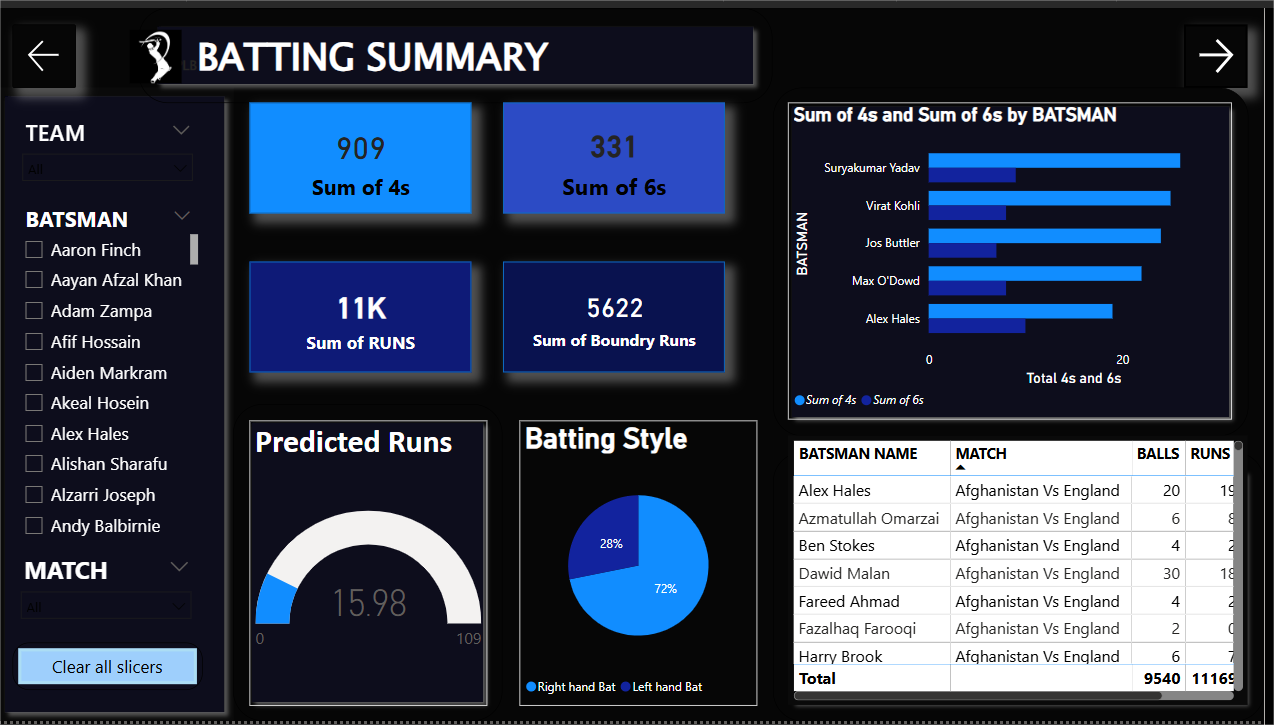

Layout of this report page (visuals, bound fields, positions):
{"tool":"powerbi","page":{"name":"BATTING DATA","canvas":[1280,720],"ordinal":1},"visuals":[{"type":"shape","box":[0,80,240,640],"z":0},{"type":"shape","box":[144,0,640,96],"z":1000},{"type":"actionButton","box":[16,16,64,64],"z":2000},{"type":"textbox","box":[176,16,592,80],"z":3000},{"type":"shape","box":[256,96,224,112],"z":4000},{"type":"shape","box":[512,96,224,112],"z":5000},{"type":"actionButton","box":[1200,16,64,64],"z":6000},{"type":"shape","box":[784,80,480,352],"z":7000},{"type":"shape","box":[240,400,272,320],"z":8000},{"type":"shape","box":[784,448,496,272],"z":9000},{"type":"actionButton","box":[16,640,192,48],"z":10000},{"type":"slicer","fields":{"Values":["bating_summary.BATSMAN NAME"]},"box":[16,192,192,352],"z":11000},{"type":"card","title":"Total 4s","fields":{"Values":["bating_summary.4s"]},"box":[255.8,96.5,224.4,111.6],"z":12000},{"type":"card","title":"Total 6s","fields":{"Values":["bating_summary.6s"]},"box":[511.6,96.5,224.4,111.6],"z":13000},{"type":"slicer","fields":{"Values":["bating_summary.MATCH"]},"box":[15.1,545.4,191.9,79.1],"z":14000},{"type":"slicer","fields":{"Values":["bating_summary.TEAM INNINGS"]},"box":[16.3,104.7,191.9,75.6],"z":15000},{"type":"tableEx","fields":{"Values":["bating_summary.BATSMAN NAME","bating_summary.MATCH","bating_summary.BALLS","bating_summary.RUNS","bating_summary.4s","bating_summary.6s"]},"box":[800,432,464,272],"z":16000},{"type":"gauge","title":"Predicted Runs","fields":{"Y":["bating_summary.RUNS"],"MinValue":["bating_summary.RUNS"],"MaxValue":["bating_summary.RUNS"]},"box":[256,416,240,288],"z":17000},{"type":"shape","box":[256,256,224,112],"z":18000},{"type":"shape","box":[512,256,224,112],"z":19000},{"type":"card","title":"Total Runs","fields":{"Values":["bating_summary.RUNS"]},"box":[256,256,224,112],"z":20000},{"type":"card","title":"Boundry Runs","fields":{"Values":["bating_summary.Boundry Runs"]},"box":[512,256,224,112],"z":21000},{"type":"image","box":[128,16,64,64],"z":22000},{"type":"pieChart","title":"Batting Style","fields":{"Category":["players.BATTING STYLE"],"Y":["players.NAME"]},"box":[528,416,240,288],"z":23000},{"type":"clusteredBarChart","fields":{"Category":["bating_summary.BATSMAN NAME"],"Y":["bating_summary.4s","bating_summary.6s"]},"box":[800,96,448,320],"z":24000}]}

Visuals, with their boxes on the page's 1280x720 design canvas (x1, y1, x2, y2). These are canvas units, not pixel positions in the 1274x725 screenshot, which may show the page scaled, cropped or inside an application window:
shape: (0, 80, 240, 720)
shape: (144, 0, 784, 96)
actionButton: (16, 16, 80, 80)
textbox: (176, 16, 768, 96)
shape: (256, 96, 480, 208)
shape: (512, 96, 736, 208)
actionButton: (1200, 16, 1264, 80)
shape: (784, 80, 1264, 432)
shape: (240, 400, 512, 720)
shape: (784, 448, 1280, 720)
actionButton: (16, 640, 208, 688)
slicer - bating_summary.BATSMAN NAME: (16, 192, 208, 544)
"Total 4s" card: (256, 96, 480, 208)
"Total 6s" card: (512, 96, 736, 208)
slicer - bating_summary.MATCH: (15, 545, 207, 624)
slicer - bating_summary.TEAM INNINGS: (16, 105, 208, 180)
tableEx - bating_summary.BATSMAN NAME x bating_summary.MATCH: (800, 432, 1264, 704)
"Predicted Runs" gauge: (256, 416, 496, 704)
shape: (256, 256, 480, 368)
shape: (512, 256, 736, 368)
"Total Runs" card: (256, 256, 480, 368)
"Boundry Runs" card: (512, 256, 736, 368)
image: (128, 16, 192, 80)
"Batting Style" pieChart: (528, 416, 768, 704)
clusteredBarChart - bating_summary.BATSMAN NAME x bating_summary.4s: (800, 96, 1248, 416)
